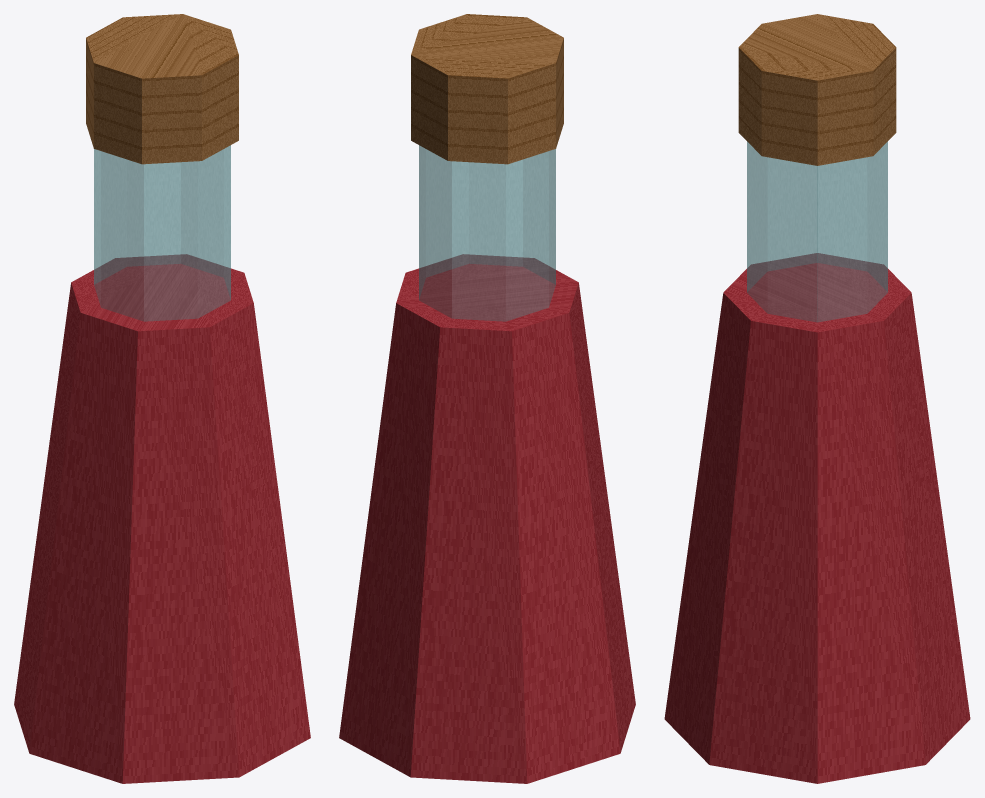
Rendered from potion_1.glb.
The picture shows the model from 3 angles, left to right: view 1: azimuth 30°, elevation 25°; view 2: azimuth 150°, elevation 25°; view 3: azimuth 270°, elevation 25°; orthographic projection.
Parts seen in each view (by area): view 1: bottle, neck, cork; view 2: bottle, neck, cork; view 3: bottle, neck, cork.
Boxes of the visible parts, x1,y1,x2,y2 form: bottle: (14,254,310,783); neck: (94,145,230,321); cork: (86,14,238,164); bottle: (339,254,635,783); neck: (419,145,555,321); cork: (411,14,563,164); bottle: (664,253,970,783); neck: (747,141,887,322); cork: (738,14,896,165).
Bounding box in the file's own units: 0.26 × 0.63 × 0.26.
2 materials, 2 textured.
